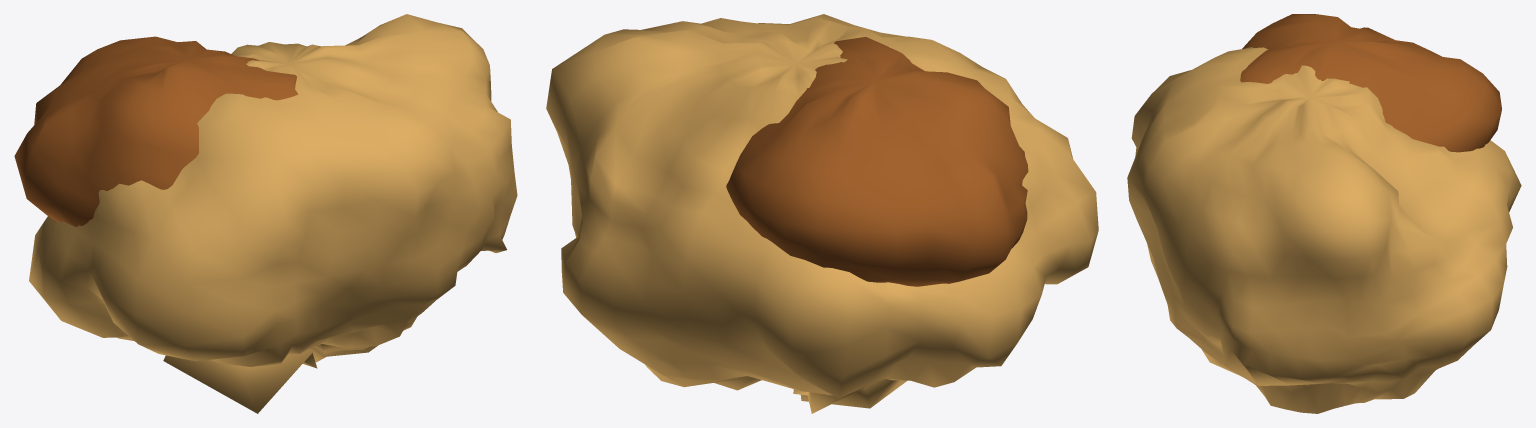
File: items-crumb.glb
The picture shows the model from 3 angles, left to right: view 1: azimuth 30°, elevation 25°; view 2: azimuth 150°, elevation 25°; view 3: azimuth 270°, elevation 25°; orthographic projection. The views are drawn at different scales.
Visible parts, largest first — view 1: Crumb__Bread, Crumb__Crust; view 2: Crumb__Bread, Crumb__Crust; view 3: Crumb__Bread, Crumb__Crust.
Boxes of the visible parts, bbox=[...] form: Crumb__Bread: bbox=[29, 14, 517, 413]; Crumb__Crust: bbox=[14, 36, 298, 227]; Crumb__Bread: bbox=[546, 14, 1098, 413]; Crumb__Crust: bbox=[726, 37, 1028, 286]; Crumb__Bread: bbox=[1127, 47, 1521, 413]; Crumb__Crust: bbox=[1240, 14, 1501, 152].
Bounding box in the file's own units: 2.76 × 1.97 × 2.24.
